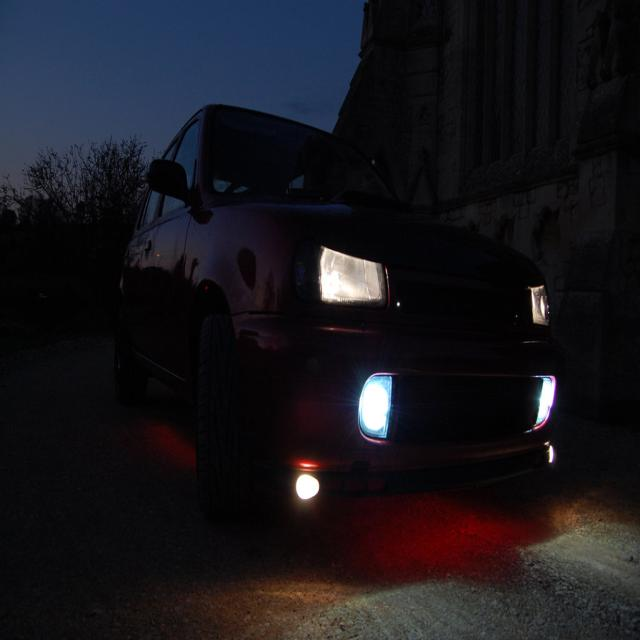Car: (194, 171, 609, 587)
